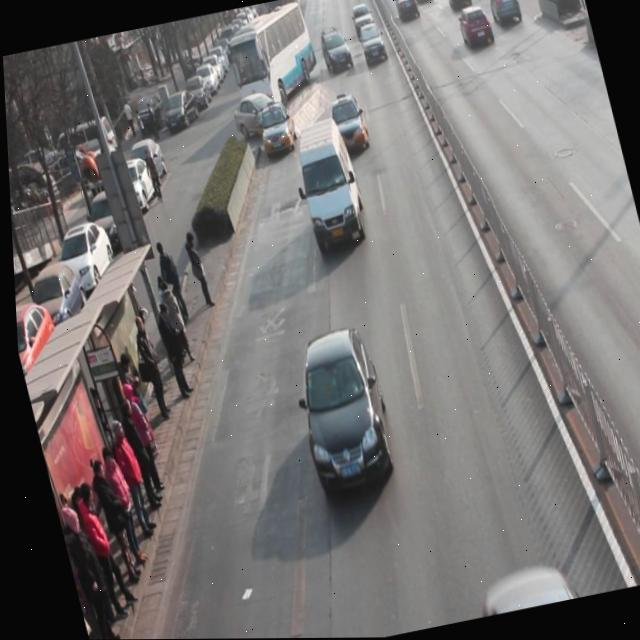car: (278, 324, 400, 500), (229, 88, 293, 145), (323, 92, 371, 158), (252, 101, 302, 159), (455, 2, 496, 51), (318, 25, 355, 78), (356, 22, 389, 69), (485, 0, 524, 28), (349, 2, 378, 37), (392, 0, 421, 23), (443, 0, 474, 12)
truck: (286, 115, 372, 256)
van: (220, 1, 323, 111)
